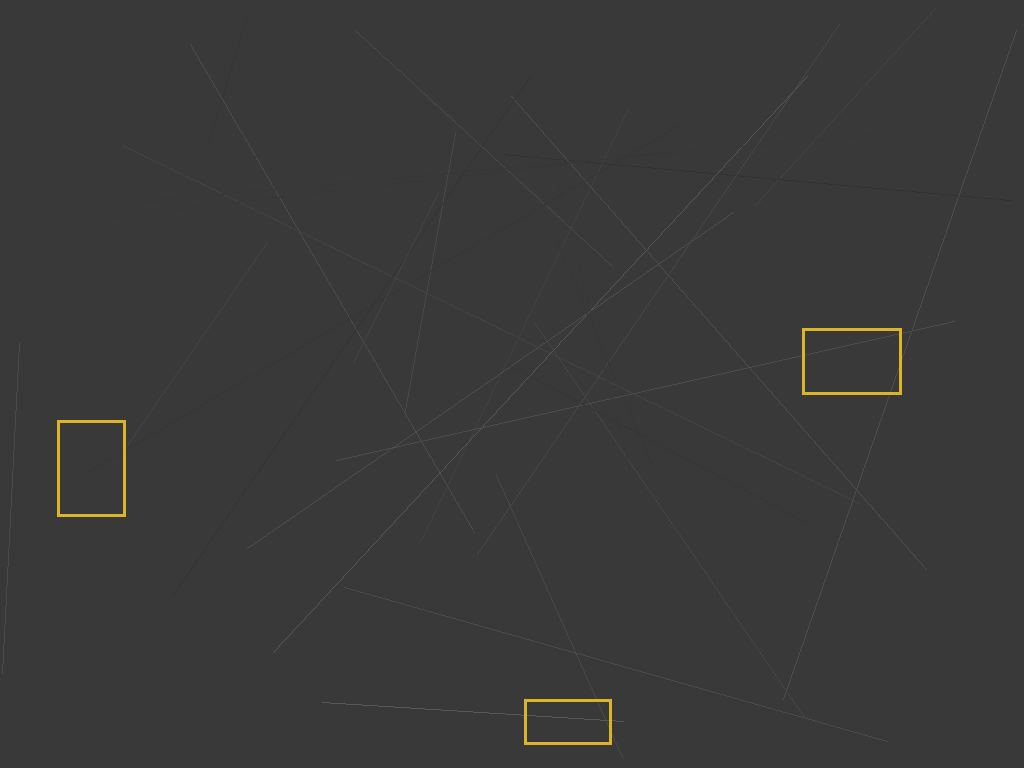D00: (802, 328, 901, 394), (57, 420, 125, 516)
D10: (524, 699, 611, 744)
